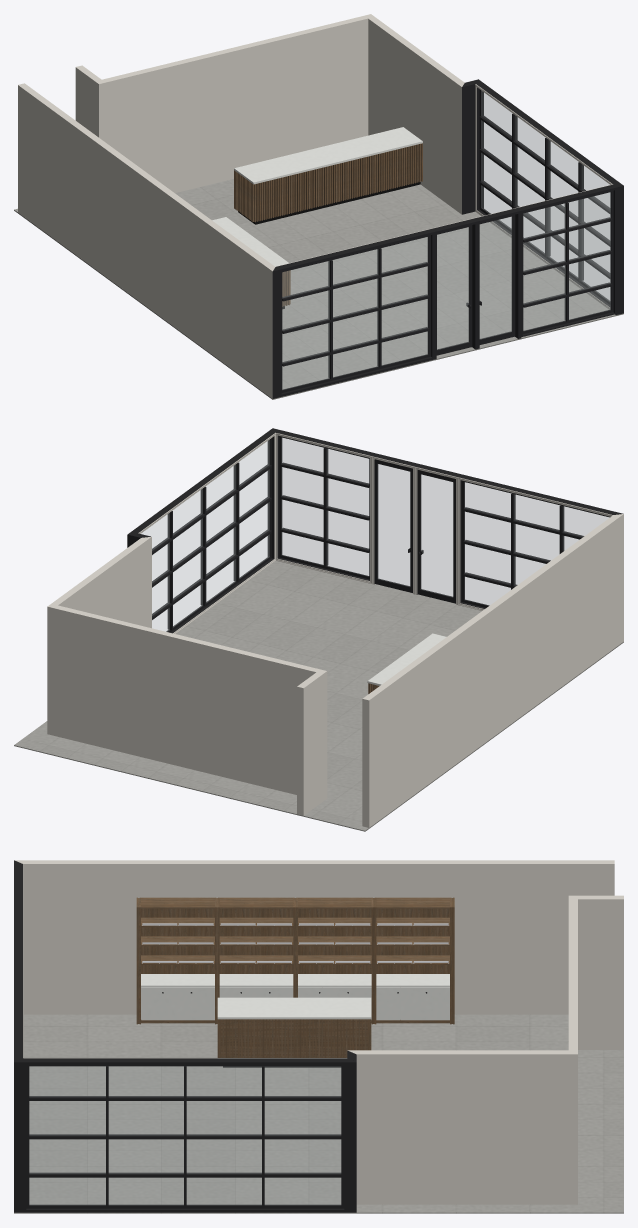
The model's file is solution_econocell.glb.
3 renders of one model, top to bottom at view 1: azimuth 30°, elevation 25°; view 2: azimuth 150°, elevation 25°; view 3: azimuth 270°, elevation 25°, orthographic. The views are drawn at different scales.
Parts seen in each view (by area): view 1: Wall_South, Floor, Wall_West, Wall_North, Wall_East, Wall_East_Rear, Unit_Reception_1, Unit_Reception_2, Unit_Reception_1__toekick; view 2: Wall_North, Wall_South, Wall_West, Floor, Wall_East, Wall_East_Rear, Unit_Reception_2; view 3: Floor, Wall_East, Wall_West, Wall_East_Rear, Unit_Bookcase_4, Unit_Bookcase_1, Unit_Reception_2, Wall_North, Unit_Bookcase_3, Unit_Bookcase_2, Wall_South, Unit_Bookcase_1__filler_L592.
Boxes of the visible parts, x1=… form: Wall_South: x1=272, y1=184, x2=623, y2=398; Floor: x1=14, y1=179, x2=623, y2=399; Wall_West: x1=18, y1=83, x2=275, y2=398; Wall_North: x1=75, y1=14, x2=370, y2=192; Wall_East: x1=475, y1=79, x2=623, y2=309; Wall_East_Rear: x1=368, y1=14, x2=478, y2=214; Unit_Reception_1: x1=234, y1=127, x2=422, y2=222; Unit_Reception_2: x1=212, y1=217, x2=290, y2=306; Unit_Reception_1__toekick: x1=238, y1=181, x2=420, y2=224; Wall_North: x1=47, y1=605, x2=327, y2=815; Wall_South: x1=267, y1=428, x2=623, y2=610; Wall_West: x1=362, y1=514, x2=623, y2=827; Floor: x1=14, y1=561, x2=623, y2=831; Wall_East: x1=128, y1=428, x2=275, y2=633; Wall_East_Rear: x1=47, y1=533, x2=151, y2=628; Unit_Reception_2: x1=367, y1=633, x2=446, y2=693; Floor: x1=14, y1=1014, x2=623, y2=1213; Wall_East: x1=14, y1=1058, x2=356, y2=1212; Wall_West: x1=15, y1=860, x2=614, y2=1014; Wall_East_Rear: x1=347, y1=1050, x2=577, y2=1204; Unit_Bookcase_4: x1=374, y1=897, x2=454, y2=1024; Unit_Bookcase_1: x1=136, y1=897, x2=216, y2=1024; Unit_Reception_2: x1=217, y1=997, x2=371, y2=1057; Wall_North: x1=568, y1=895, x2=623, y2=1054; Unit_Bookcase_3: x1=296, y1=897, x2=372, y2=1024; Unit_Bookcase_2: x1=218, y1=897, x2=294, y2=997; Wall_South: x1=14, y1=860, x2=29, y2=1209; Unit_Bookcase_1__filler_L592: x1=138, y1=898, x2=217, y2=1023.
Bounding box in the file's own units: 7.9 × 2.76 × 10.08.
10 materials, 4 textured.
